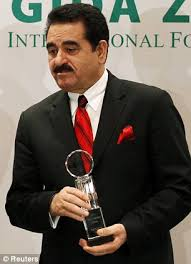middle_eastern_male: (44, 16, 107, 87)
